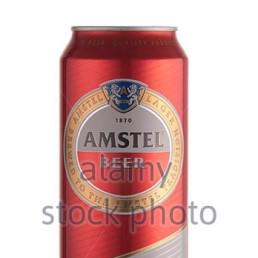beer: (60, 25, 189, 258)
